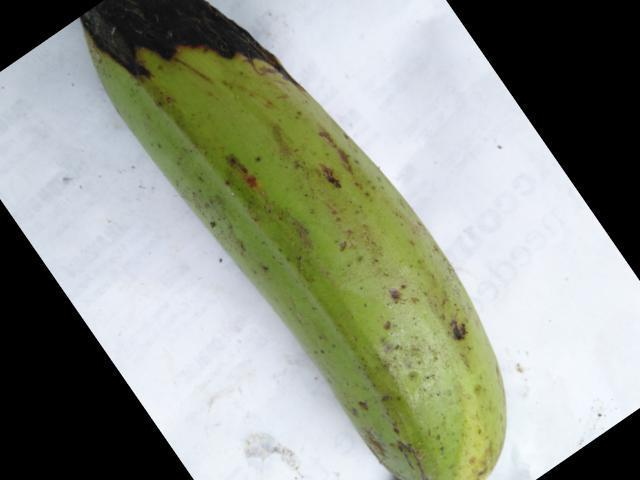rotten: (11, 0, 325, 114)
unripe: (101, 78, 520, 479)
